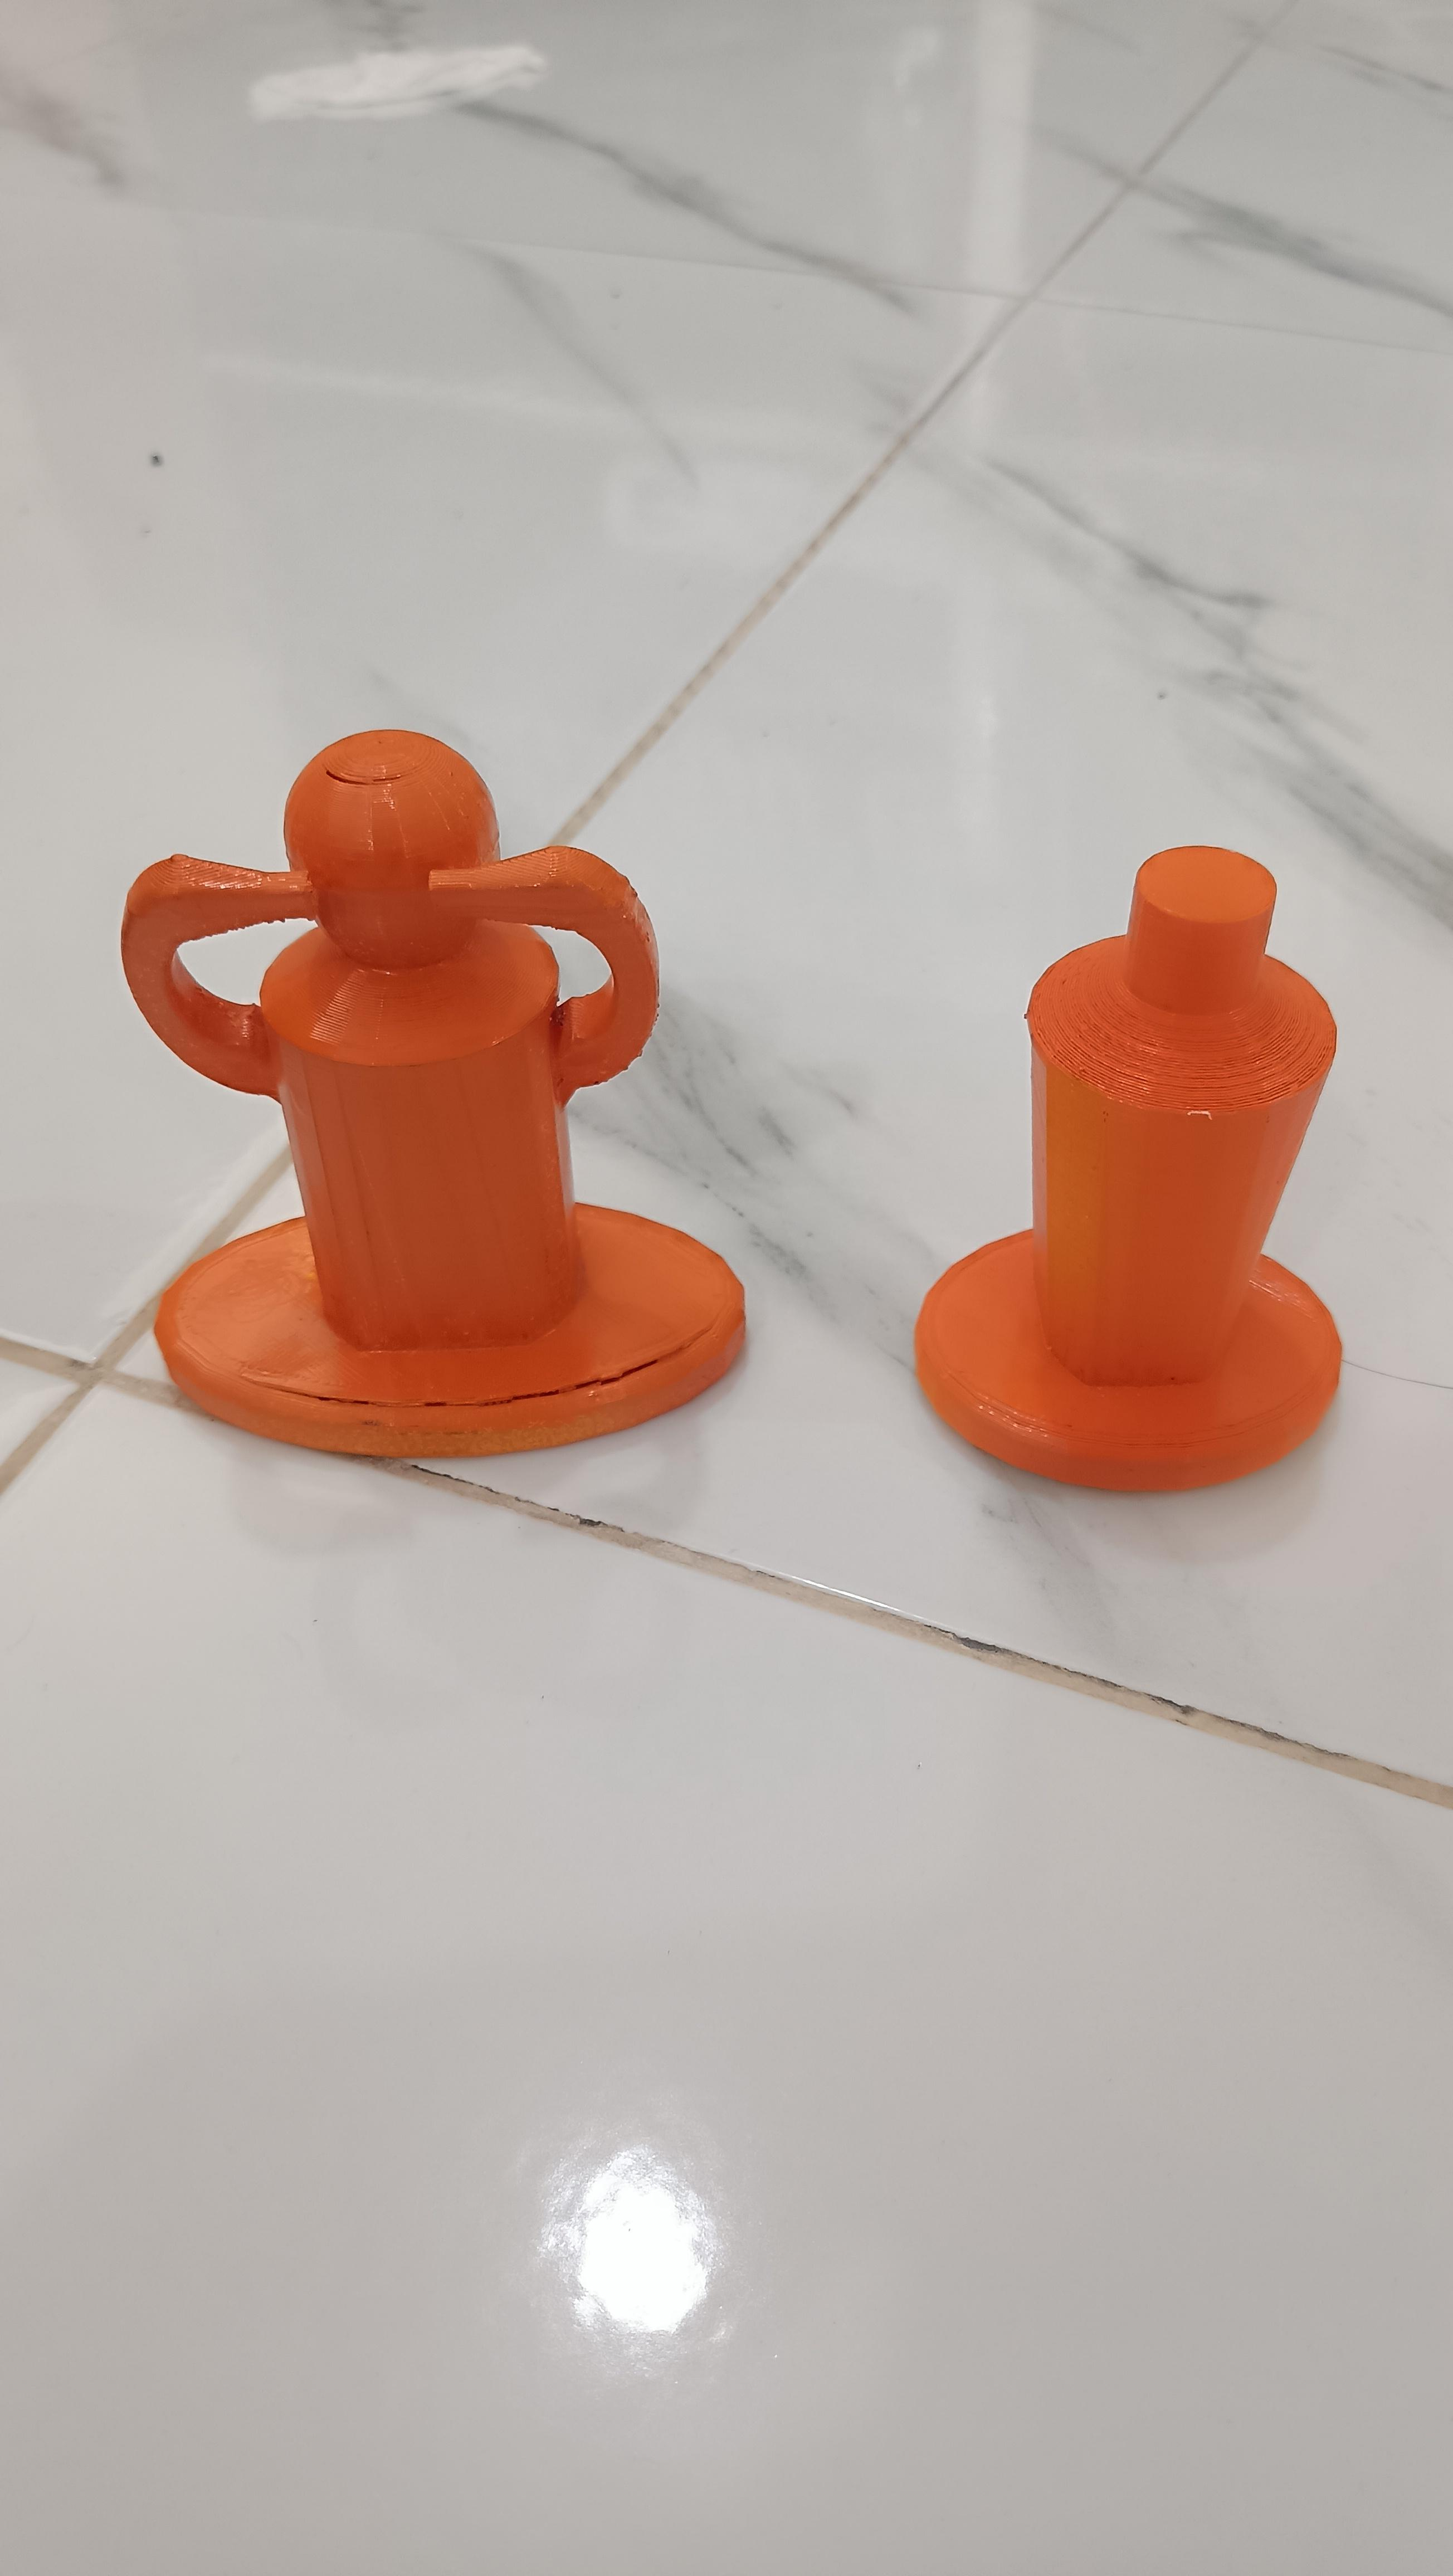dummy: (883, 772, 1386, 1509)
real_person: (53, 702, 784, 1490)
